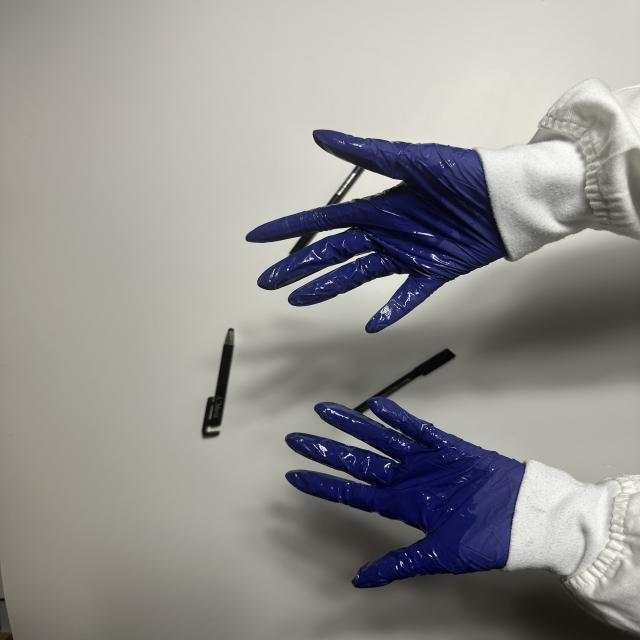gloves_contaminated: (247, 130, 506, 333), (286, 398, 524, 588)
